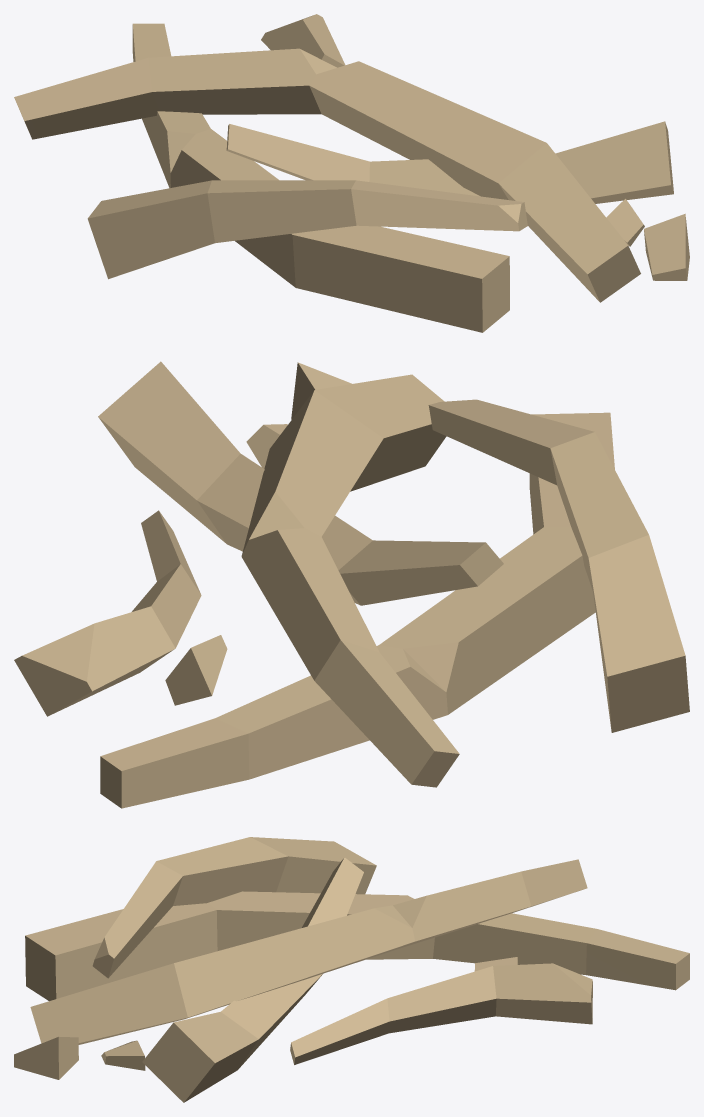
The model's file is Bone_Stack_3__0.glb.
3 views of the same model, one above another, from view 1: azimuth 30°, elevation 25°; view 2: azimuth 150°, elevation 25°; view 3: azimuth 270°, elevation 25° (orthographic). The views are drawn at different scales.
Parts seen in each view (by area): view 1: Bone_Stack_3__0; view 2: Bone_Stack_3__0; view 3: Bone_Stack_3__0.
Part boxes in pixels (box(x1,y1,x2,y2)): Bone_Stack_3__0: box(14, 14, 689, 332); Bone_Stack_3__0: box(14, 361, 689, 808); Bone_Stack_3__0: box(14, 837, 689, 1102).
Size of the model in its own units: 0.5308 by 0.1303 by 0.6566.
1 material, 1 textured.
